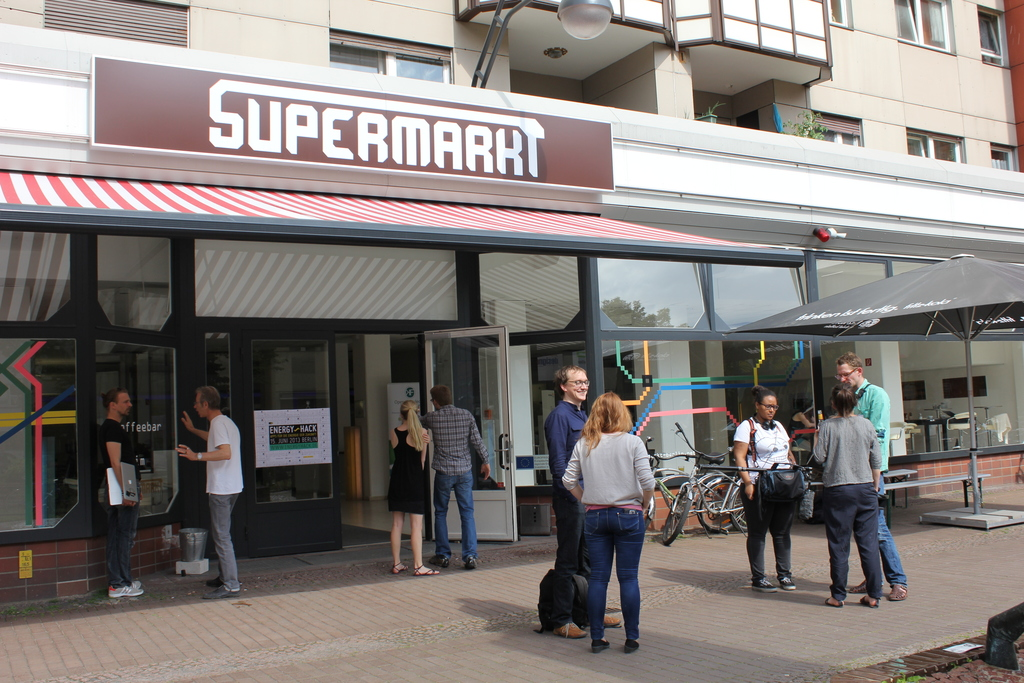Footwear: (550, 618, 588, 637), (202, 584, 242, 602), (108, 586, 146, 599), (756, 578, 780, 593), (890, 586, 908, 605), (415, 565, 437, 579), (622, 638, 641, 654), (604, 614, 622, 630), (595, 638, 612, 654), (858, 593, 874, 609), (462, 557, 481, 569), (782, 575, 798, 589), (429, 557, 447, 568), (828, 595, 843, 608), (391, 565, 410, 575), (207, 578, 223, 587), (129, 578, 142, 586)
